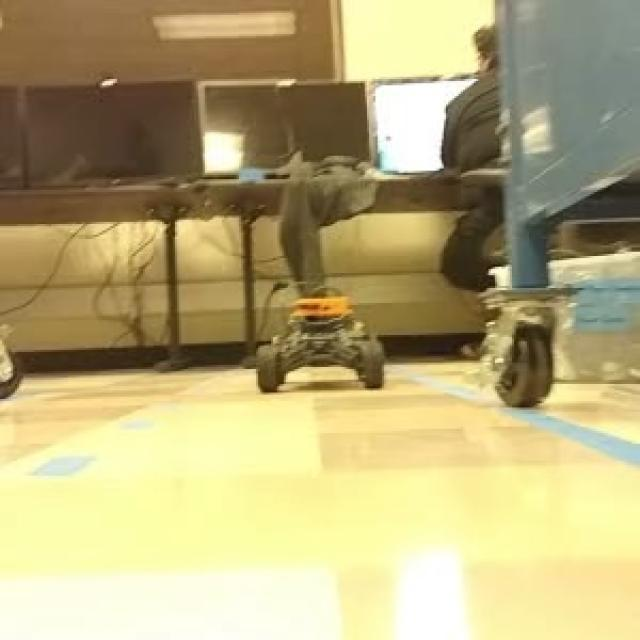obstacle: (242, 284, 395, 404)
